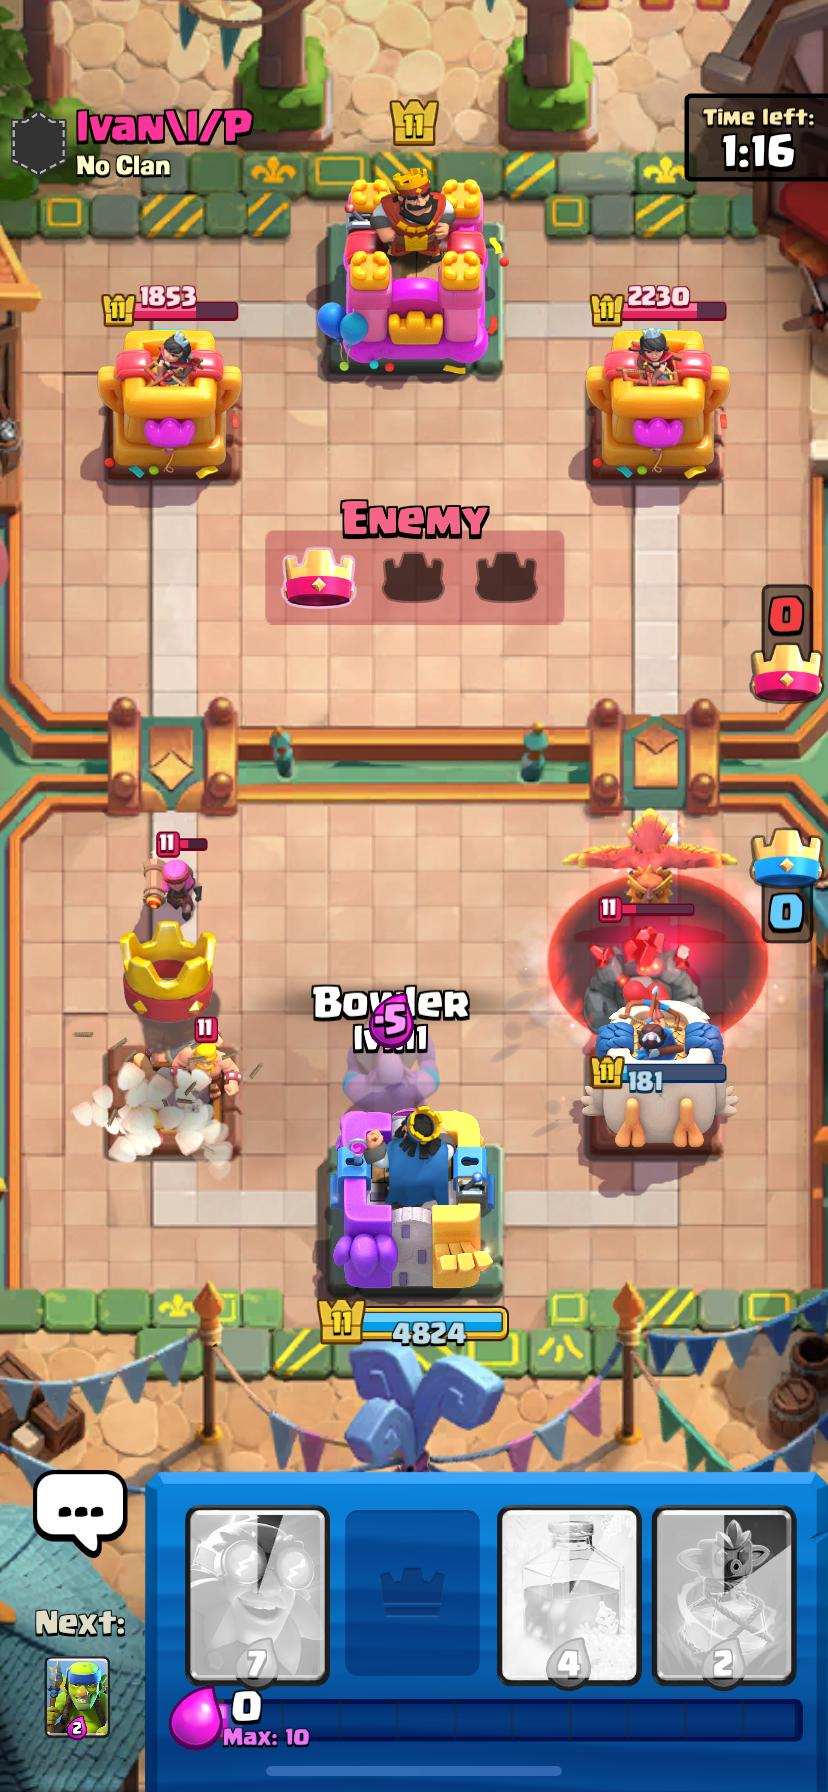EBarb: (172, 1042, 239, 1098)
EFirecrack: (143, 855, 201, 922)
EGolem: (583, 927, 701, 1033)
EKingTower: (317, 168, 502, 376)
EPhenix: (564, 810, 735, 901)
EnemyPrincessTower: (586, 329, 729, 479), (98, 331, 240, 479)
OwnKingTower: (331, 1107, 502, 1291)
OwnPrincessTower: (583, 987, 734, 1151)
TowerDown: (109, 1042, 241, 1158)
